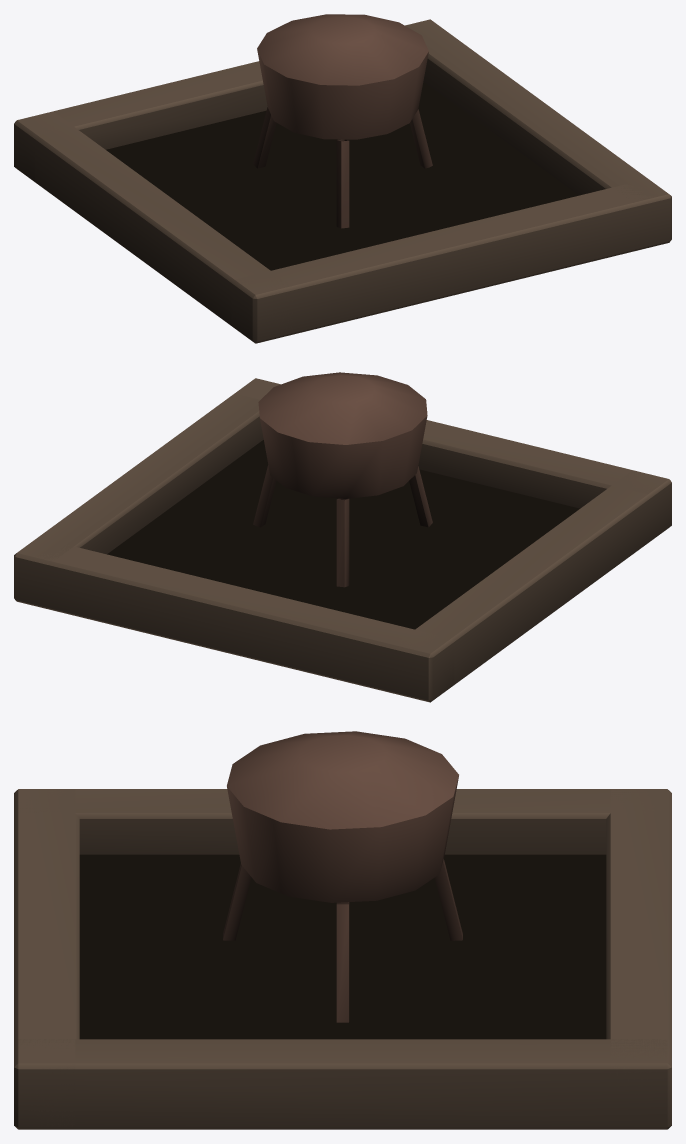
The model's file is prop.irori.glb.
3 views of the same model, one above another, from view 1: azimuth 30°, elevation 25°; view 2: azimuth 150°, elevation 25°; view 3: azimuth 270°, elevation 25° (orthographic). The views are drawn at different scales.
Parts seen in each view (by area): view 1: LOD0; view 2: LOD0; view 3: LOD0.
Boxes of the visible parts, x1,y1,x2,y2 form: LOD0: (14, 14, 671, 343); LOD0: (14, 372, 671, 702); LOD0: (14, 731, 671, 1129).
Size of what is drawn, in the model's own units: 0.9 by 0.36 by 0.9.
